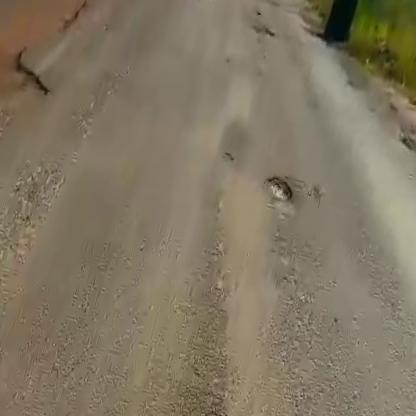pothole: (257, 170, 305, 213)
